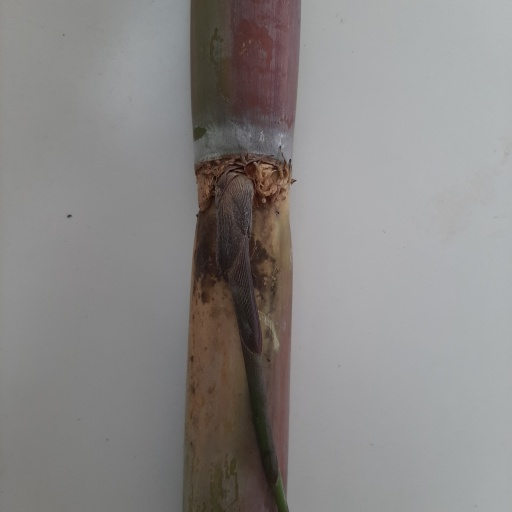Sprouted_Bud: (215, 166, 255, 258)
